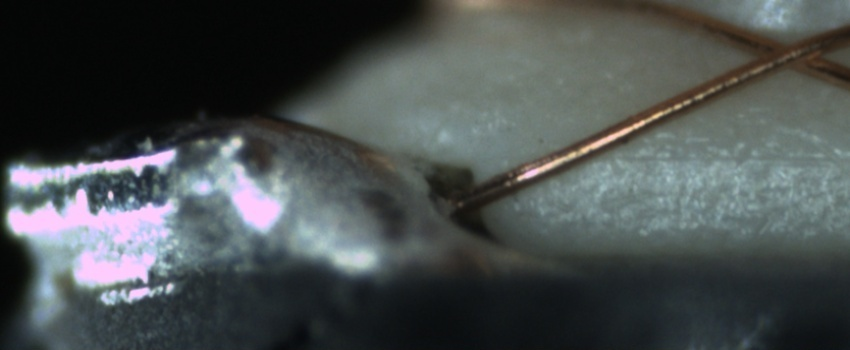CL: (739, 25, 836, 78)
DL: (607, 124, 848, 189)
